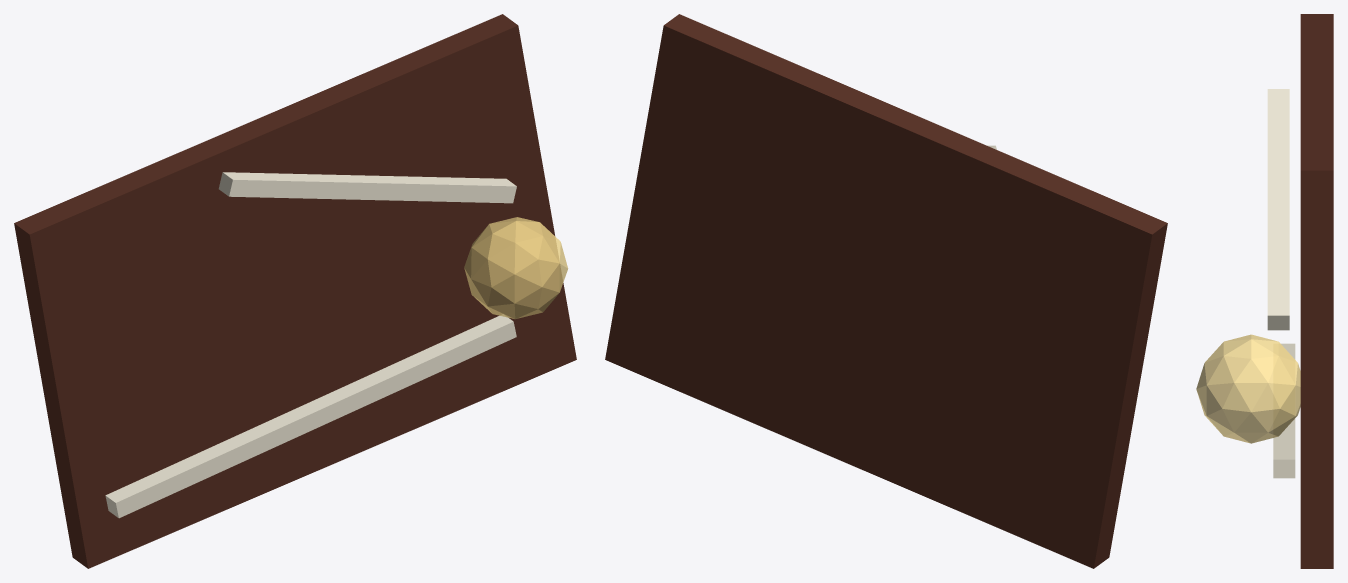
The model's file is 02_world_prop_polish.glb.
3 renders of one model, left to right at view 1: azimuth 30°, elevation 25°; view 2: azimuth 150°, elevation 25°; view 3: azimuth 270°, elevation 25°, orthographic. The views are drawn at different scales.
Parts seen in each view (by area): view 1: object_overlay_plate, edge_wear_a, glow_socket, edge_wear_b; view 2: object_overlay_plate; view 3: object_overlay_plate, glow_socket, edge_wear_b, edge_wear_a.
Boxes of the visible parts, left/top/right/bottom form: object_overlay_plate: left=14, top=14, right=576, bottom=568; edge_wear_a: left=105, top=315, right=516, bottom=518; glow_socket: left=464, top=217, right=568, bottom=319; edge_wear_b: left=218, top=172, right=516, bottom=203; object_overlay_plate: left=605, top=14, right=1167, bottom=568; object_overlay_plate: left=1300, top=14, right=1333, bottom=568; glow_socket: left=1196, top=334, right=1300, bottom=443; edge_wear_b: left=1267, top=89, right=1289, bottom=330; edge_wear_a: left=1273, top=343, right=1295, bottom=478.
Bounding box in the file's own units: 1.21 × 0.9292 × 0.25.
